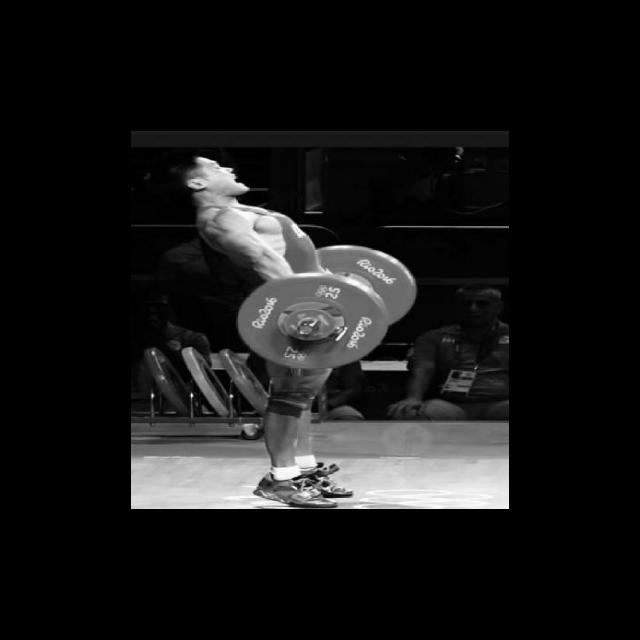barbell: (234, 269, 389, 371)
